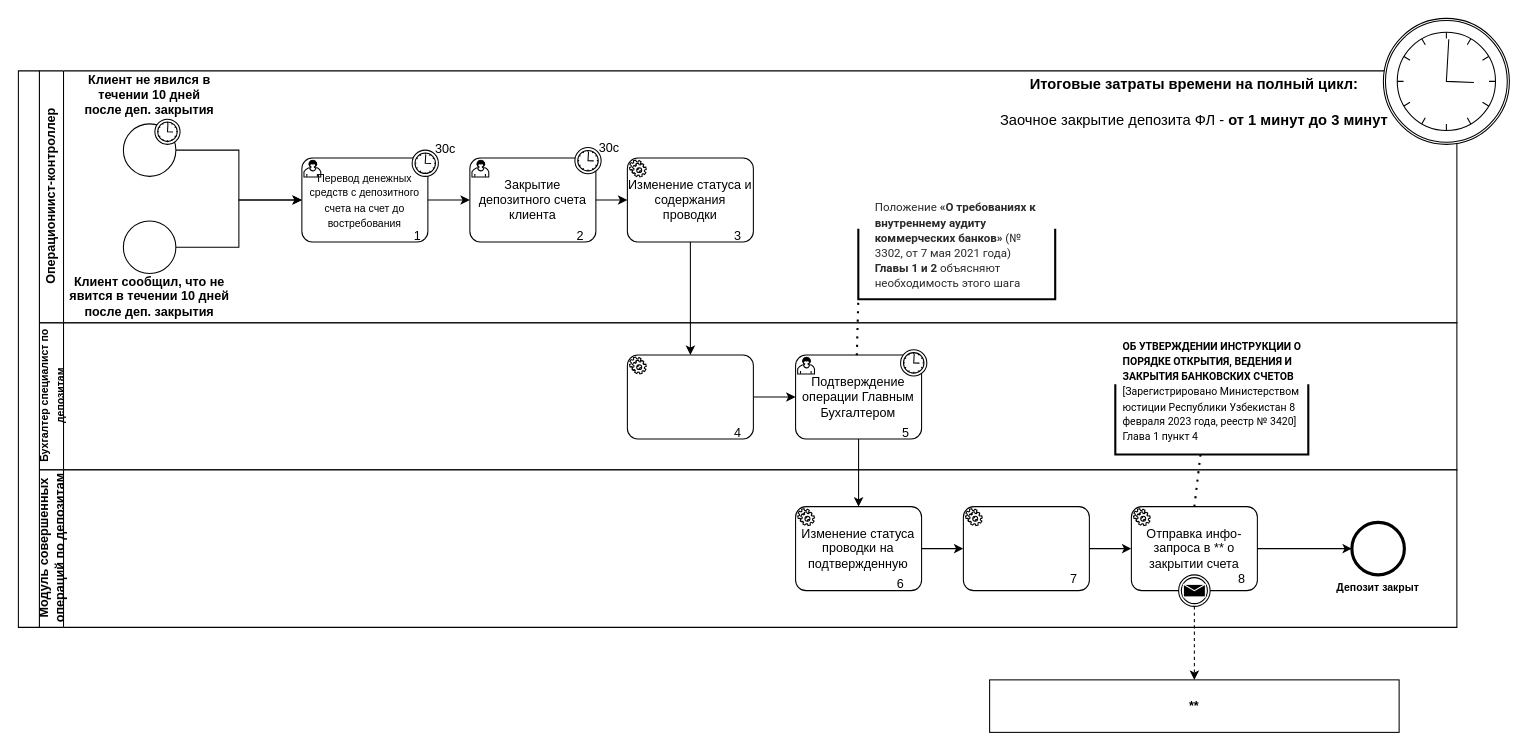
Some shapes in this 1528 by 751 pixel diagram are drawn without their labels. The centre of each missing label's shape, as x and y in pixels:
Банк АБС: [28,348]
В течении операционного дня: [956,263]
Получение обновленного статуса проводки: [689,396]
Сохранение статуса проводки, депозитный счет числится как неактивный: [1025,548]
